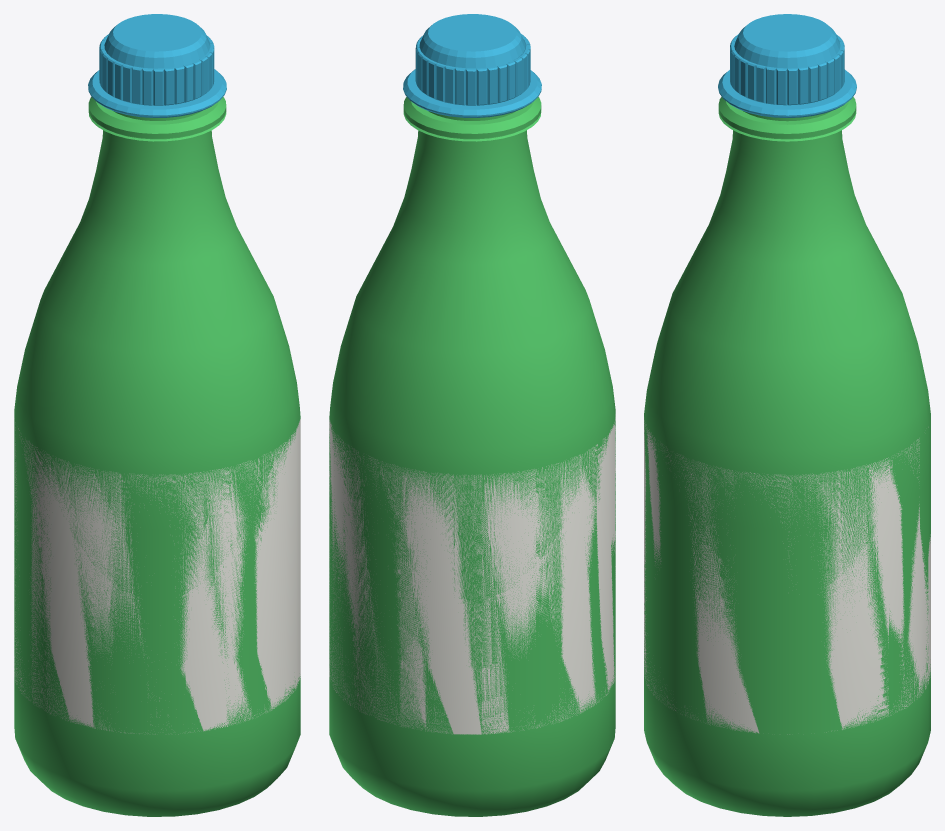
The model's file is botolsusu.fbx.
The picture shows the model from 3 angles, left to right: view 1: azimuth 30°, elevation 25°; view 2: azimuth 150°, elevation 25°; view 3: azimuth 270°, elevation 25°; orthographic projection.
Parts seen in each view (by area): view 1: botol, cairan, tutup; view 2: botol, cairan, tutup; view 3: botol, cairan, tutup.
Boxes of the visible parts, x1,y1,x2,y2 form: botol: [14, 97, 300, 816]; cairan: [14, 419, 300, 734]; tutup: [88, 14, 226, 117]; botol: [329, 97, 615, 816]; cairan: [329, 417, 615, 734]; tutup: [403, 14, 541, 117]; botol: [644, 97, 930, 816]; cairan: [644, 420, 930, 734]; tutup: [718, 14, 856, 117].
Size of the model in its own units: 142 by 399 by 142.
